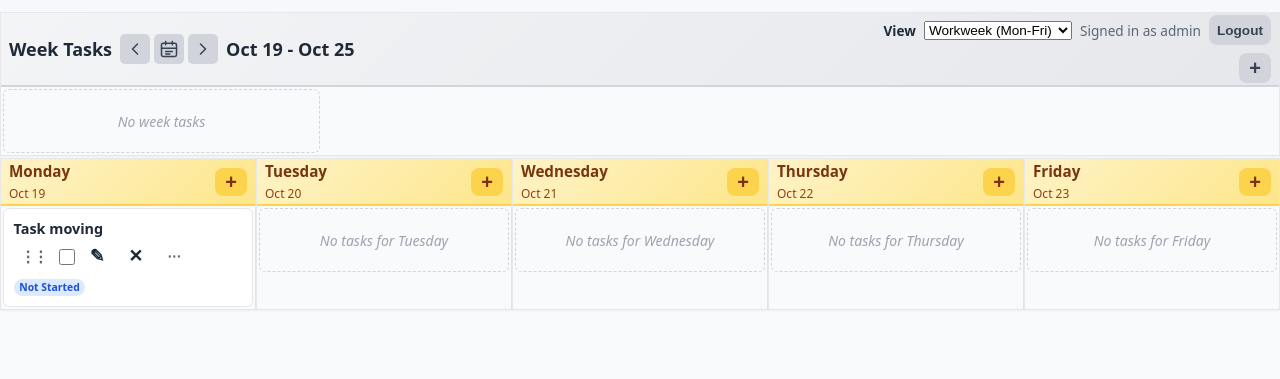
it: BoardPage ordering bug regressions › shows a cross-week pending move's conflict snapshot while the destination initial GET is delayed, and ignores that late GET
Click the button named "More actions for Task moving".
click(174, 257)  # box [158,244,190,270]
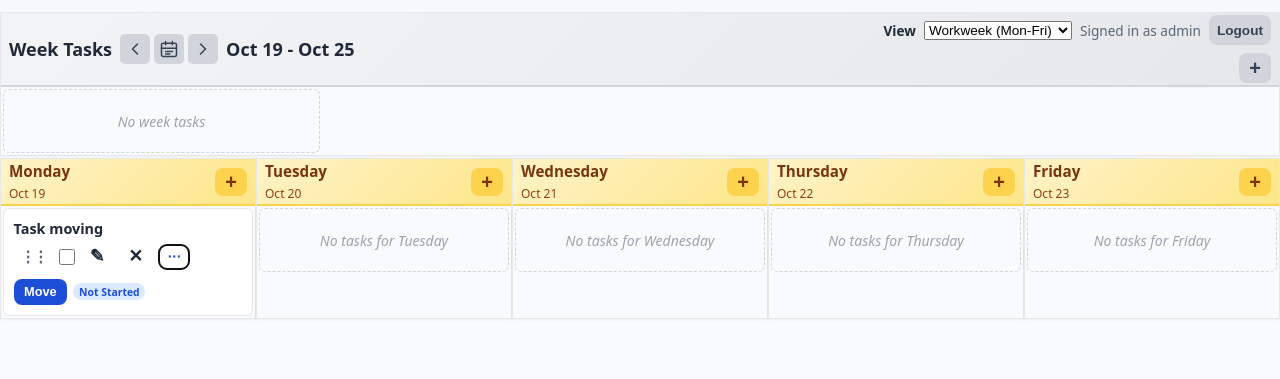
Click the menu item "Move".
click(40, 292)  # box [14,279,67,305]
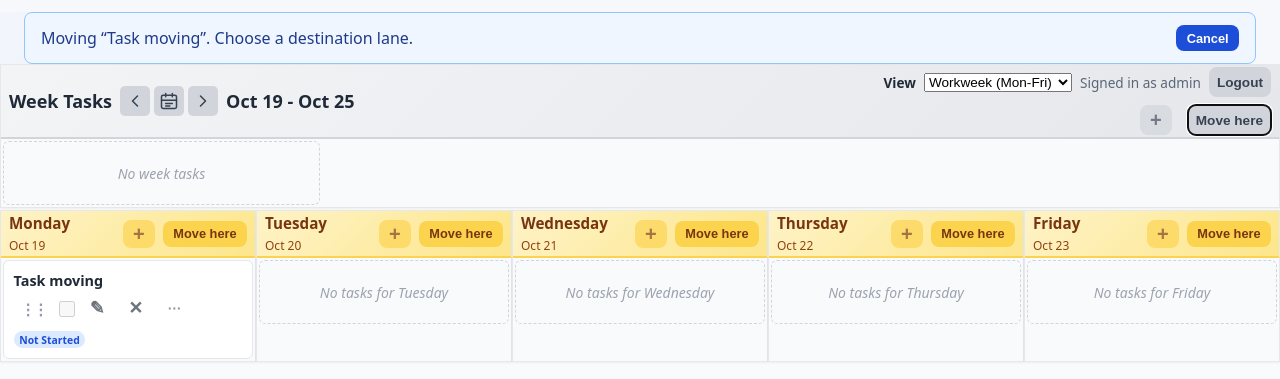
Click the button named "Go to next week".
click(203, 101)  # box [188,86,218,116]
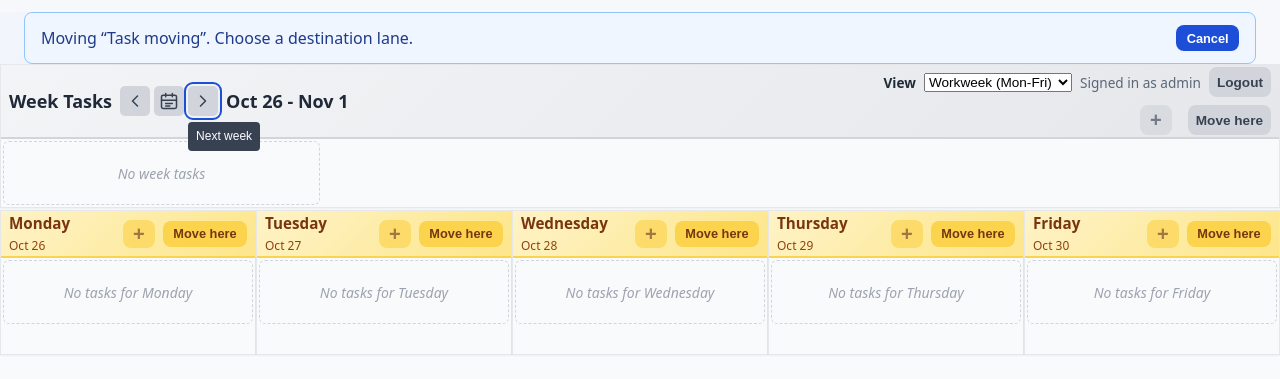
Click the button with aria-label "Move here to shared week".
click(1229, 120)  # box [1188,105,1271,135]
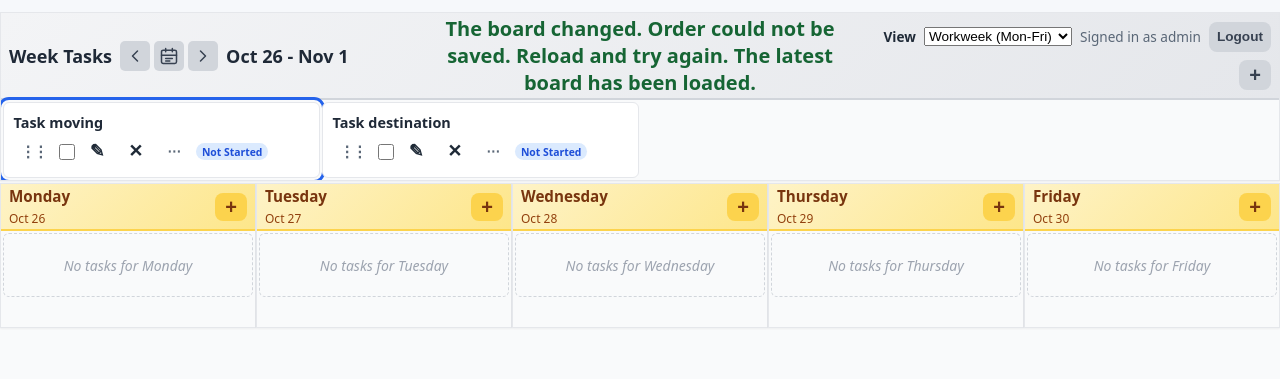
Expected: the element named "Week tasks" is shown, [0,12,1279,181]
Expected: the message shows "The latest board has been loaded.", [445,15,834,96]
Expected: the element showing "Task destination ⋮⋮ ✎ ✕ ⋯ Not Started" is shown, [322,102,639,178]
